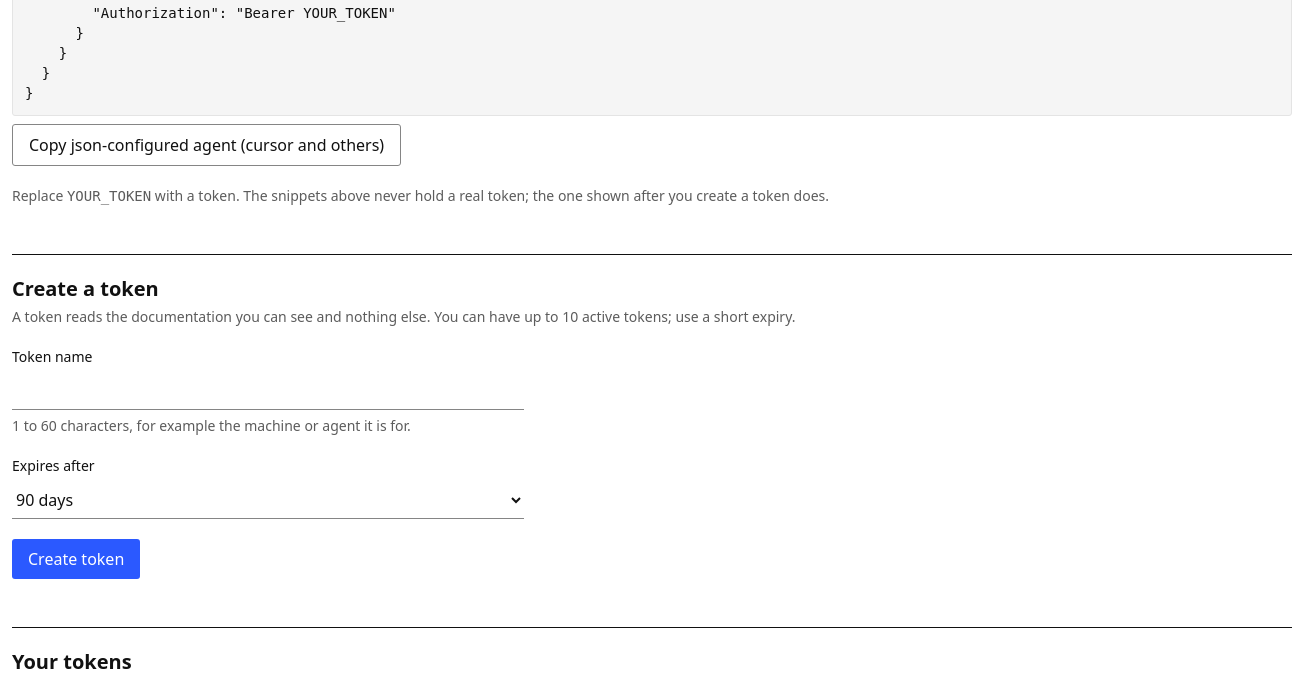
Test case: AgentAccess: creating a token › says when the request fails and lets the user try again
(page scrolled)
Type "x" into the field labelled "Token name". click: (268, 392)
box: [12,373,524,410]
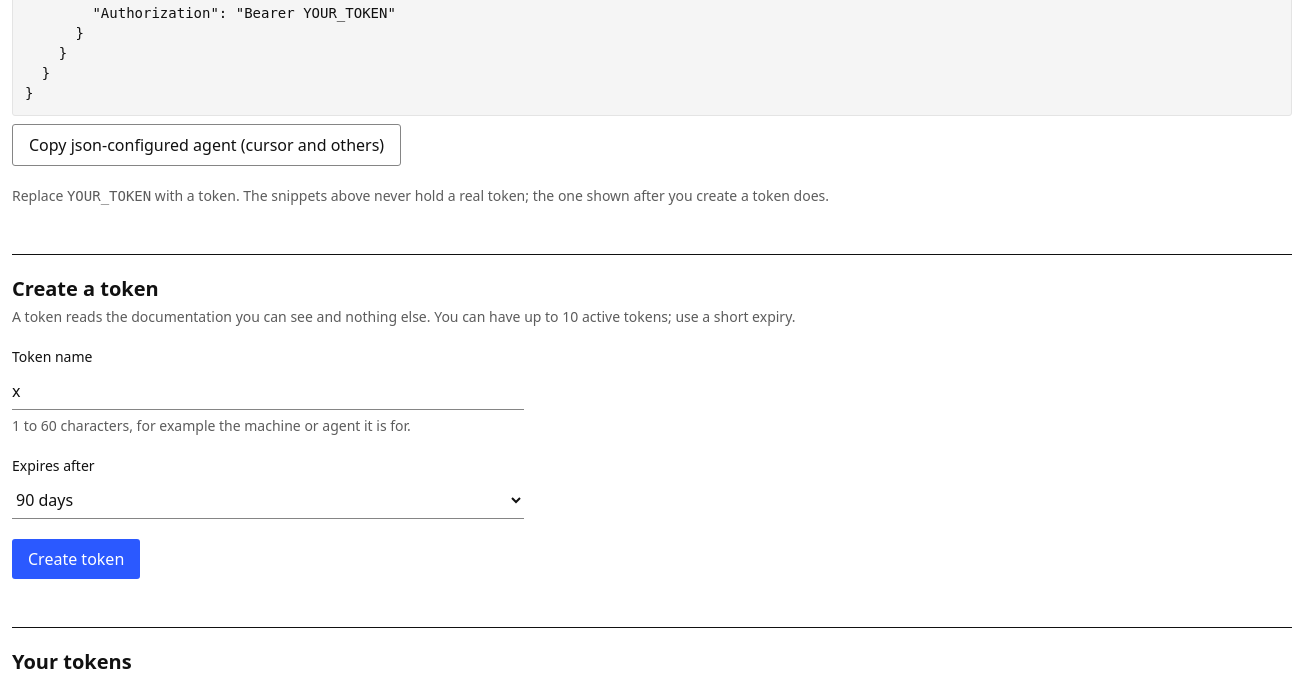
Click the button "Create token". click: (76, 559)
box: [12,539,140,579]
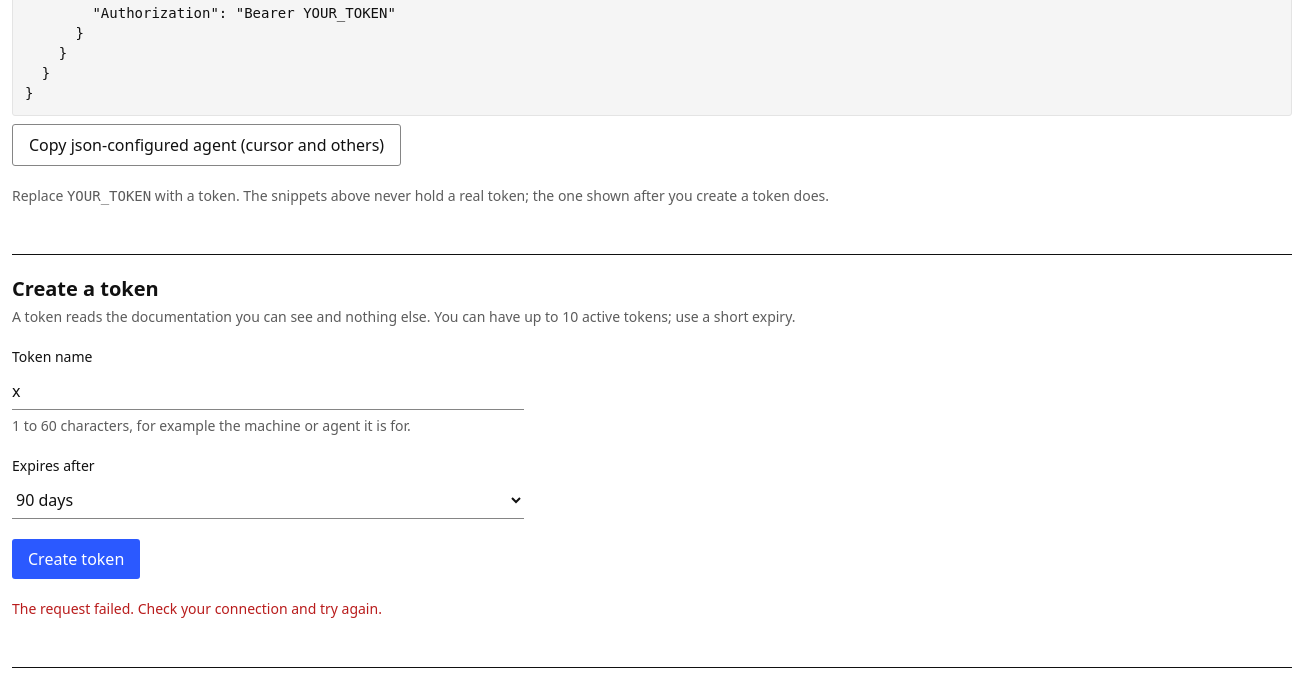
Now the message with test id "agent-access-error" shows "request failed", box [12,599,382,618]
